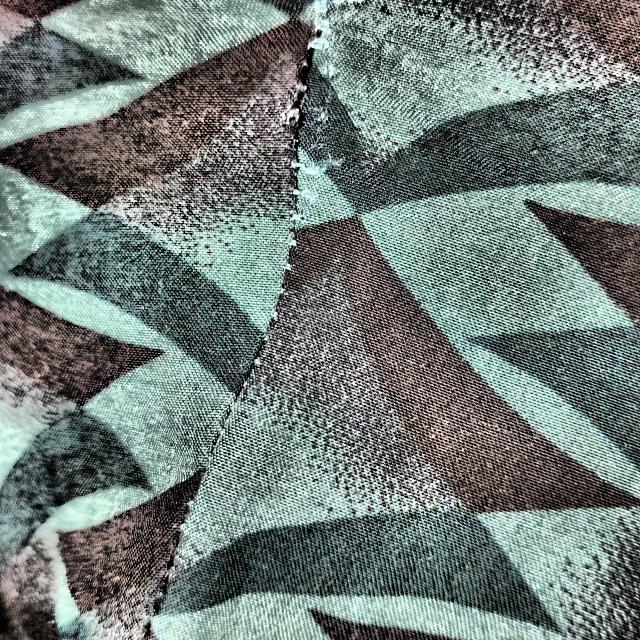Stitch: (258, 3, 350, 270)
